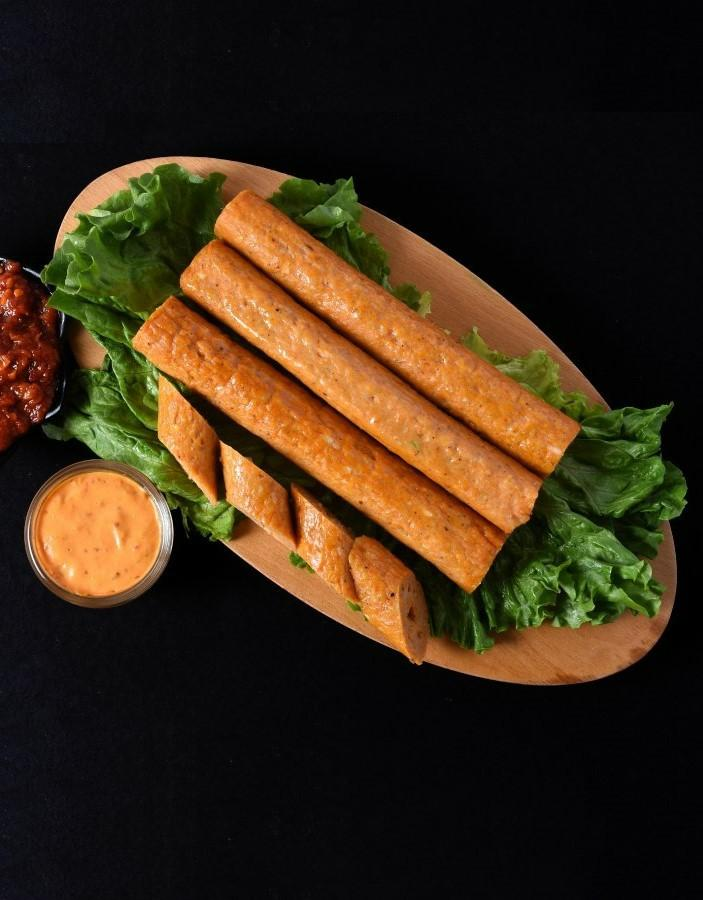Kebab: (126, 289, 505, 594), (213, 188, 581, 478), (178, 242, 538, 536), (348, 533, 430, 663), (156, 372, 214, 500), (222, 443, 292, 548), (298, 494, 358, 605)
